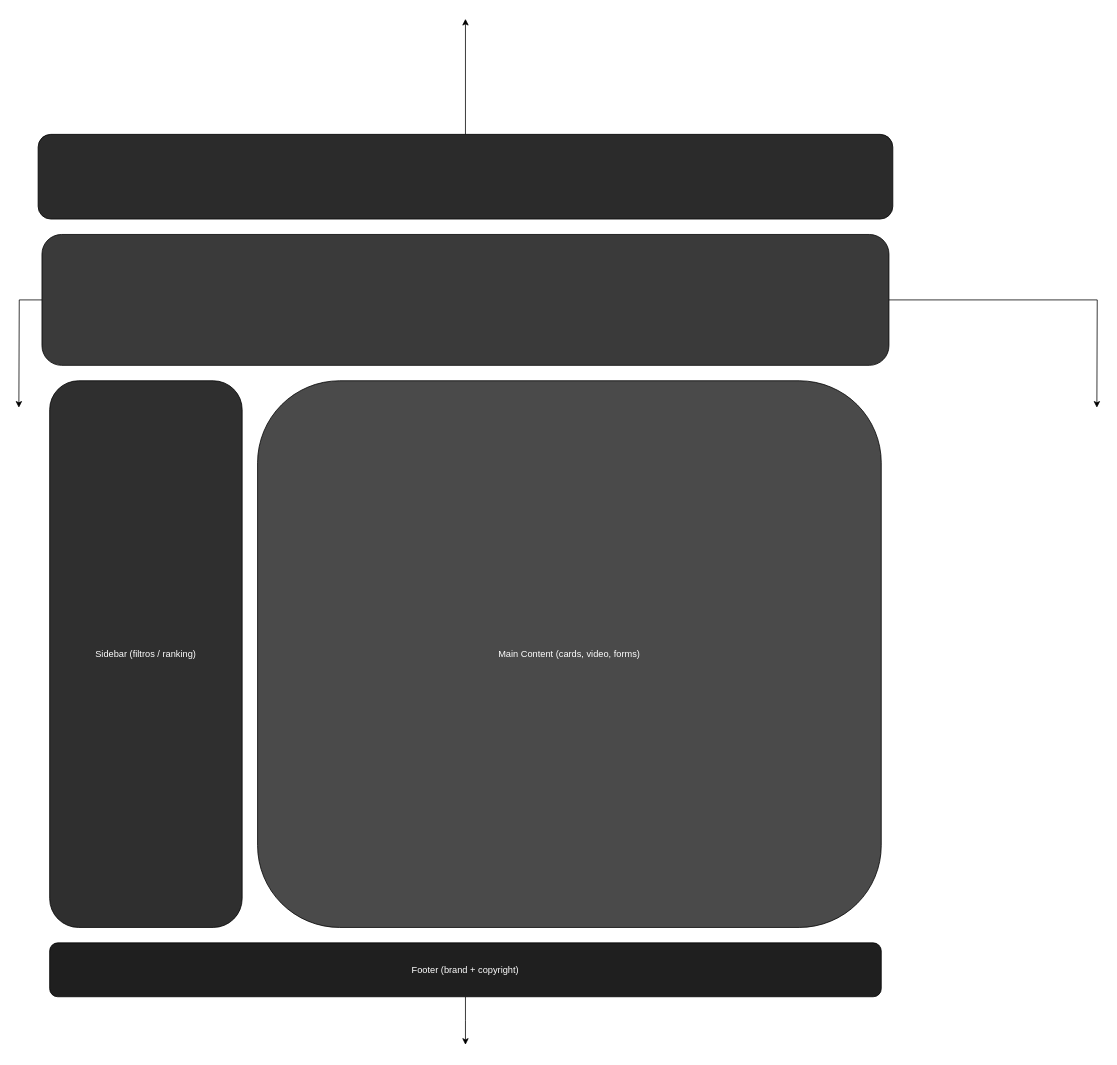
Image size: 1117x1065. Some labels were removed from this diagram. Here are the shapes that lost their labels. From the top down, the centre of each, then its label:
At point 465,176: "Header (logo + nav + toggle)".
At point 465,299: "Hero Section (headline + video/image)".
